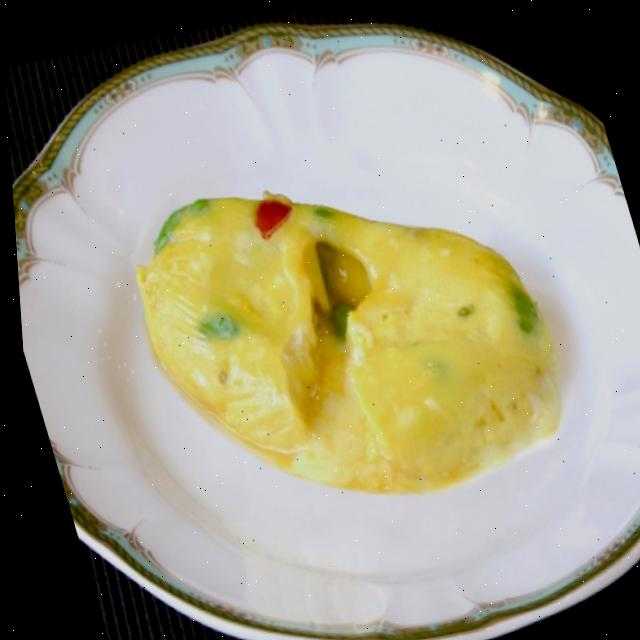鸡蛋料理: (78, 99, 619, 562)
